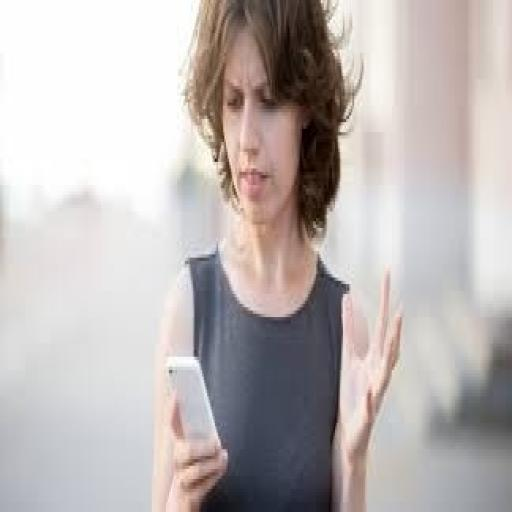texting: (148, 0, 404, 509)
